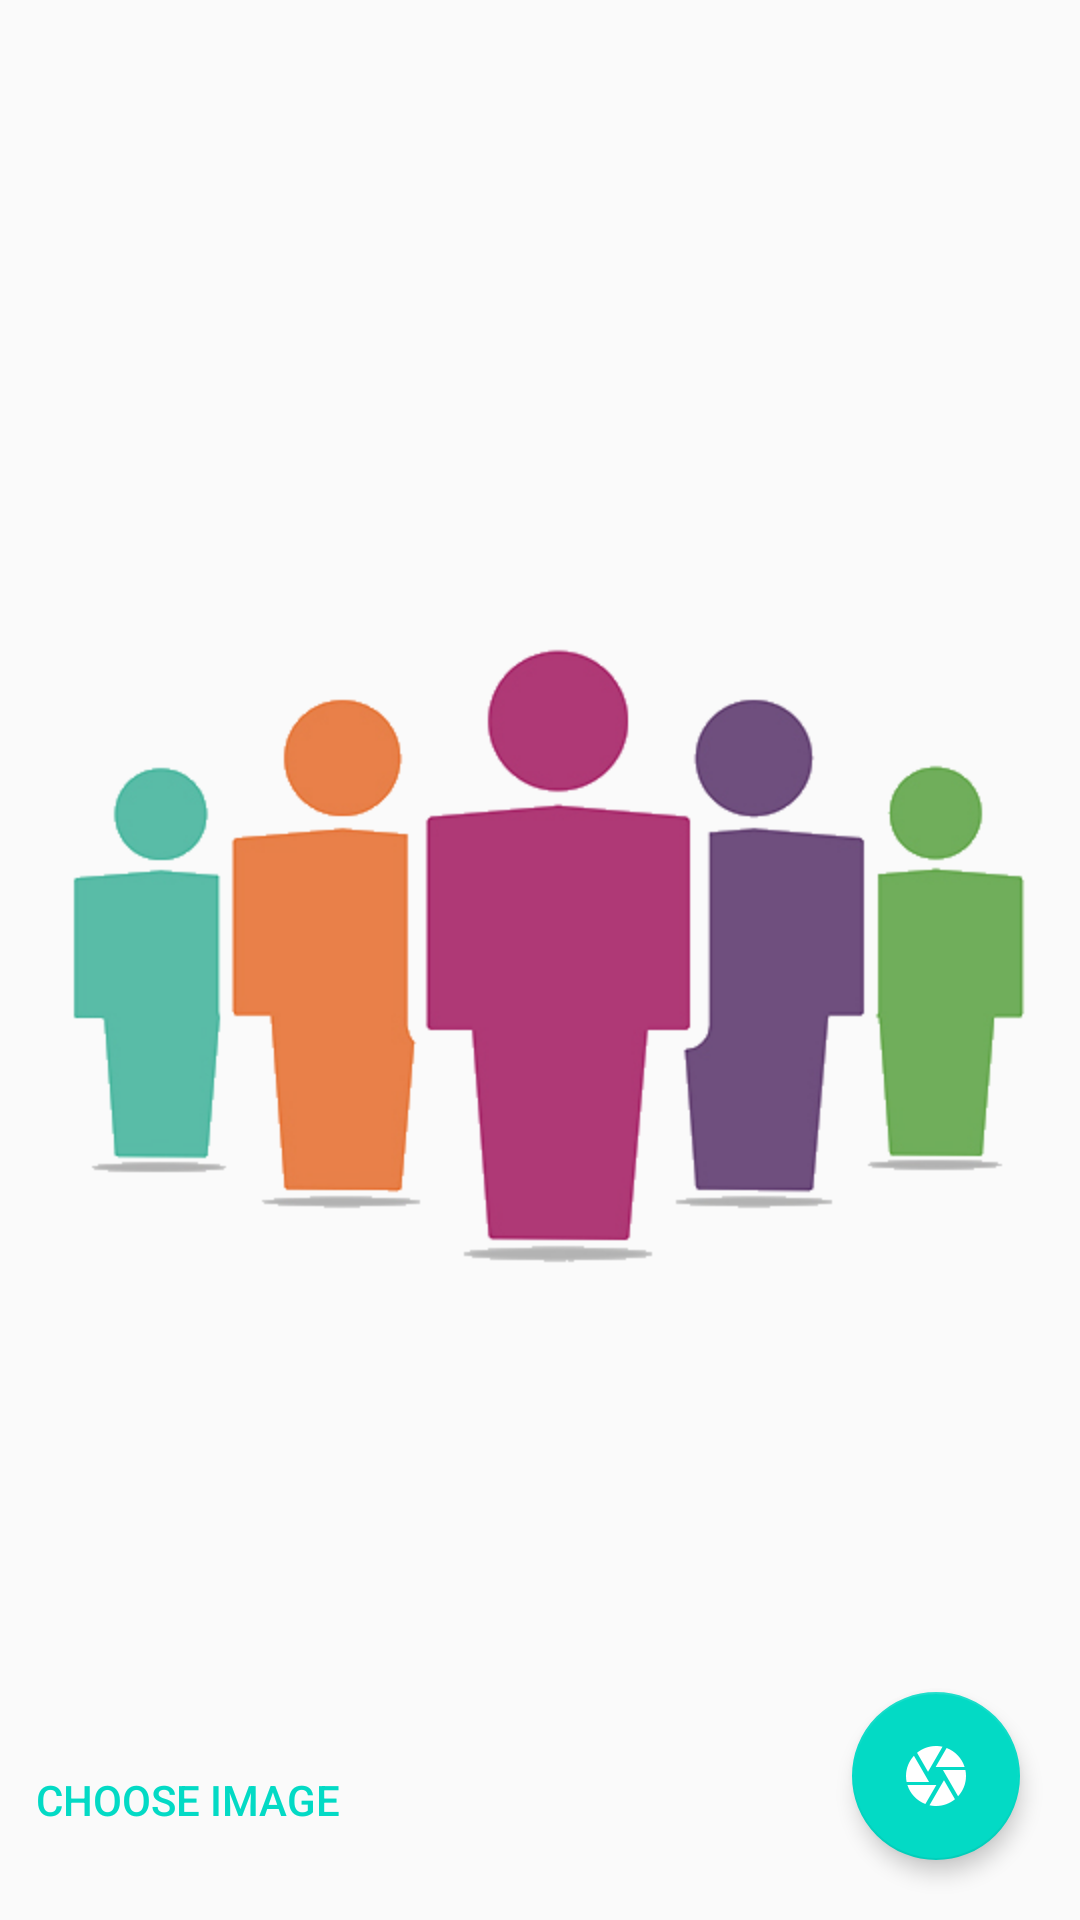

Screen size 1080×1920. Icon name, then its center in pixels as [x,y]:
camera: [936,1776]
